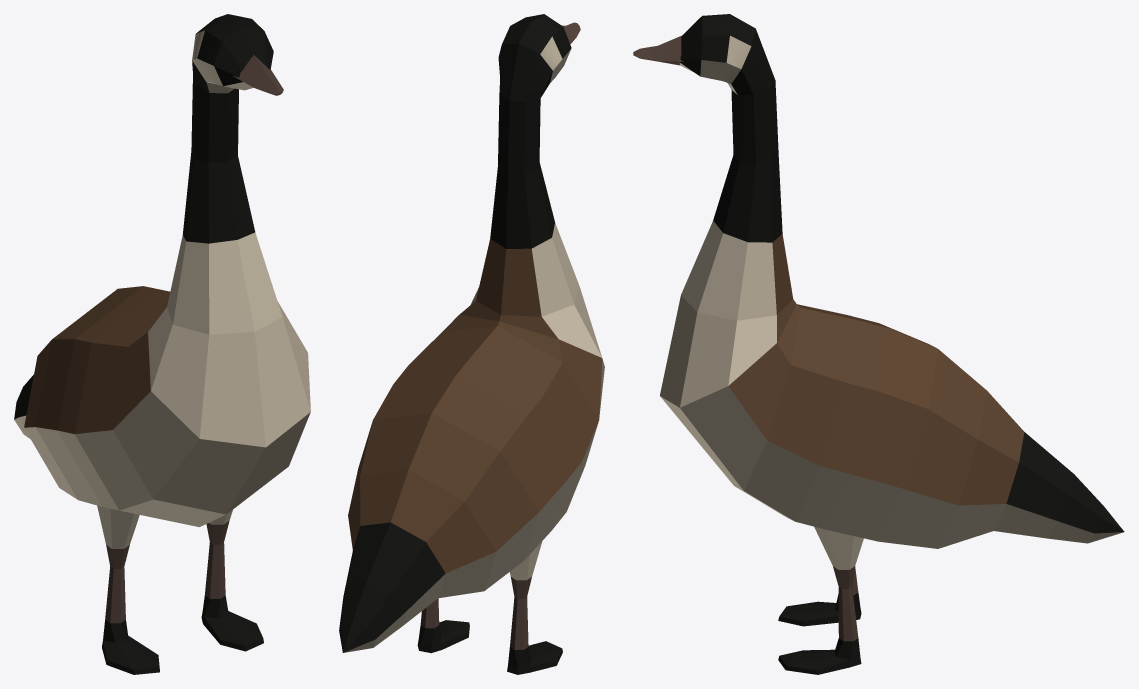
File: Goose.glb
The picture shows the model from 3 angles, left to right: view 1: azimuth 30°, elevation 25°; view 2: azimuth 150°, elevation 25°; view 3: azimuth 270°, elevation 25°; orthographic projection. The views are drawn at different scales.
Visible parts, largest first — view 1: Geo_Goose; view 2: Geo_Goose; view 3: Geo_Goose.
Boxes of the visible parts, left/top/right/bottom form: Geo_Goose: left=14, top=14, right=310, bottom=674; Geo_Goose: left=339, top=14, right=604, bottom=674; Geo_Goose: left=633, top=14, right=1124, bottom=674.
Bounding box in the file's own units: 25.47 × 76.94 × 54.8.
1 material, 1 textured.
